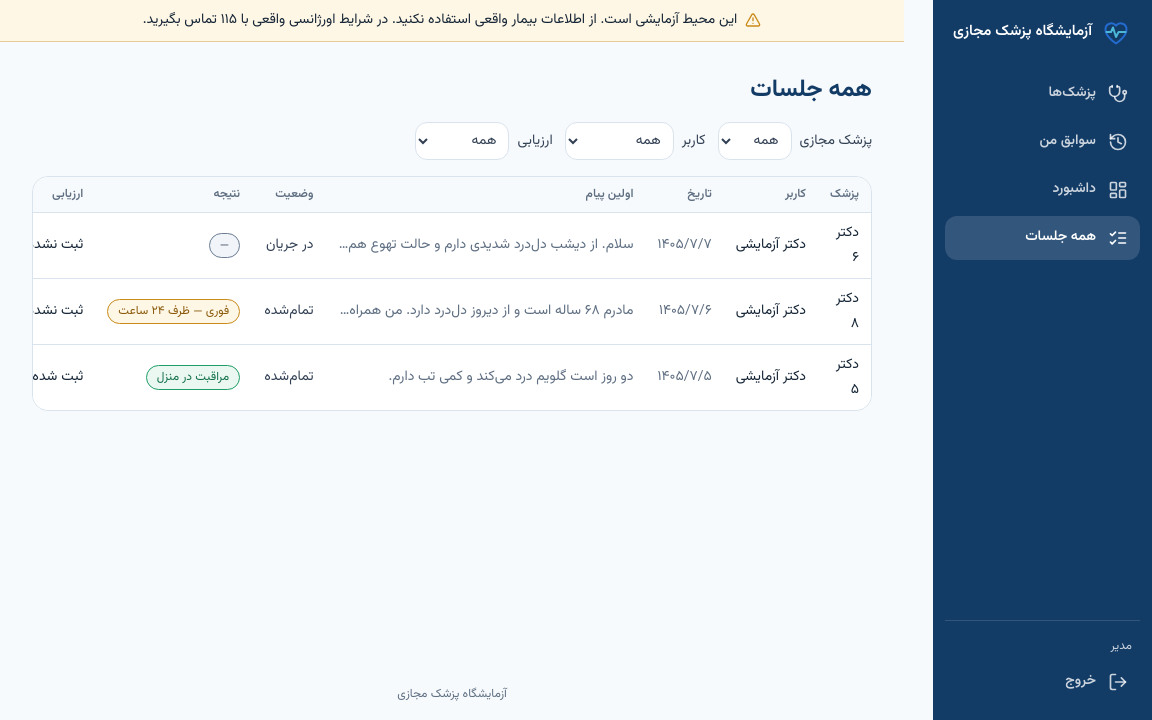
it: admin sessions › filters by evaluated state
The width and height of the screenshot is (1152, 720).
Expected: the number of links with test id "admin-session-row" is 3, [32, 213, 871, 279]; [32, 279, 871, 345]; [32, 345, 871, 410]
Select "ثبت نشده" in the dropdown labelled "ارزیابی" at (462, 141), box [416, 122, 510, 160]
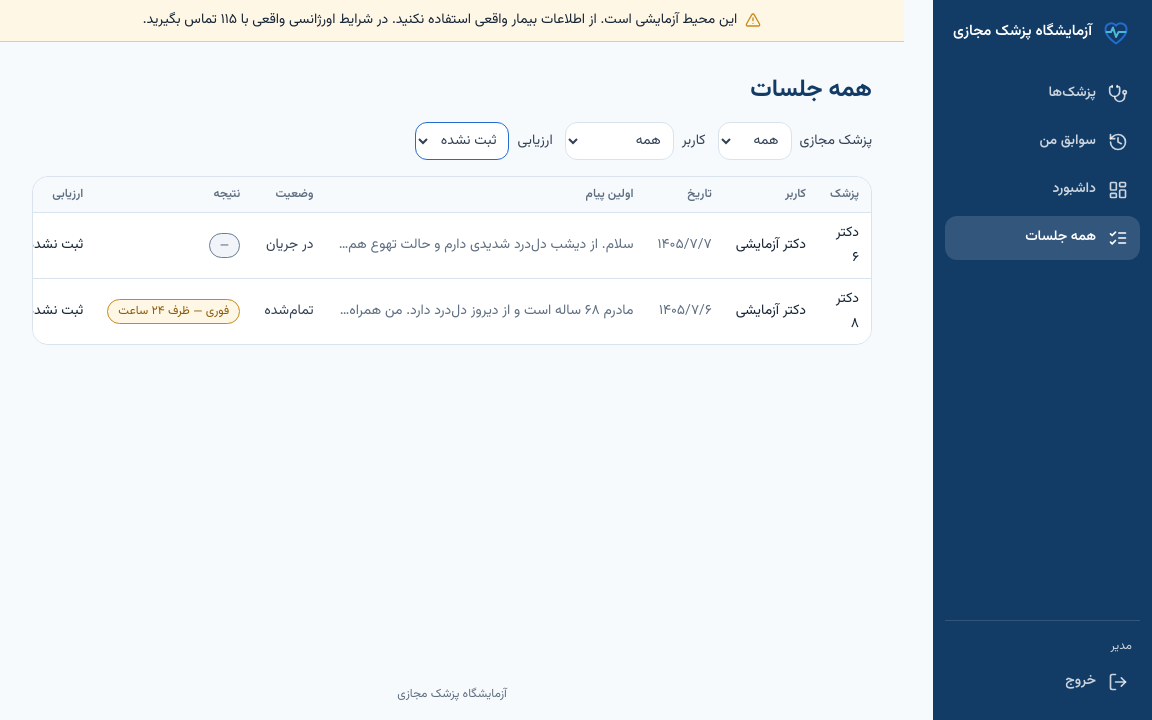
Expected: the number of links with test id "admin-session-row" is 2, [32, 213, 871, 279]; [32, 279, 871, 344]
